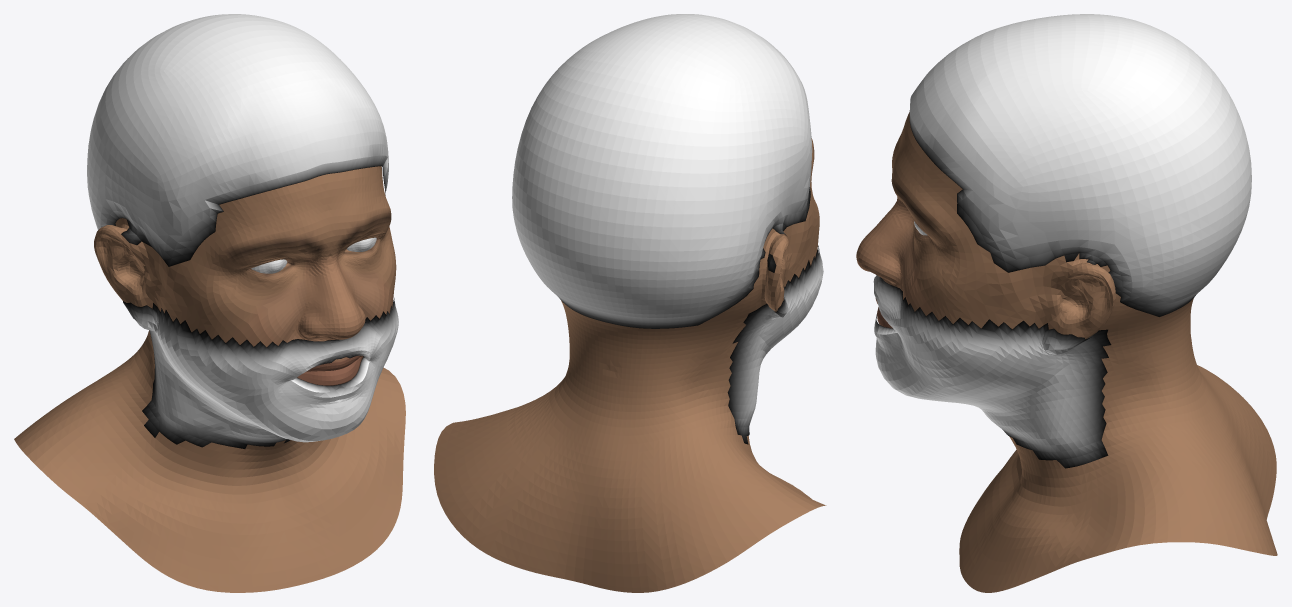
The model's file is rohit.glb.
3 renders of one model, left to right at view 1: azimuth 30°, elevation 25°; view 2: azimuth 150°, elevation 25°; view 3: azimuth 270°, elevation 25°, orthographic. The views are drawn at different scales.
Parts seen in each view (by area): view 1: gnm_head; view 2: gnm_head; view 3: gnm_head.
Part boxes in pixels (left/top/right/bottom): gnm_head: left=14, top=14, right=405, bottom=592; gnm_head: left=434, top=14, right=826, bottom=592; gnm_head: left=856, top=14, right=1277, bottom=592.
Size of the model in its own units: 0.2486 by 0.3347 by 0.2419.
